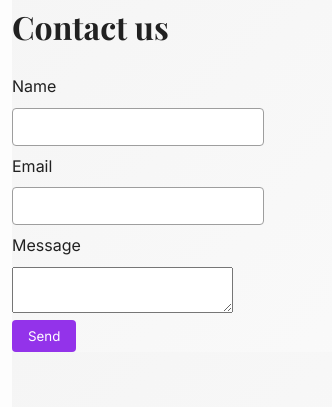
it: shows error message
Type "A" into the field labelled "Name" at (138, 127), box [12, 108, 264, 146]
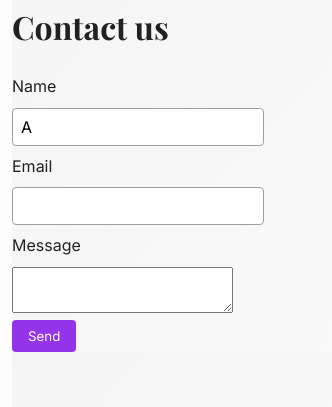
Type "a@b.c" into the field labelled "Email" at (138, 206), box [12, 187, 264, 225]
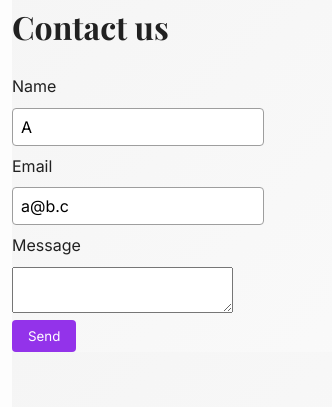
Type "Hi" into the text box labelled "Message" at (122, 290), box [12, 267, 233, 313]
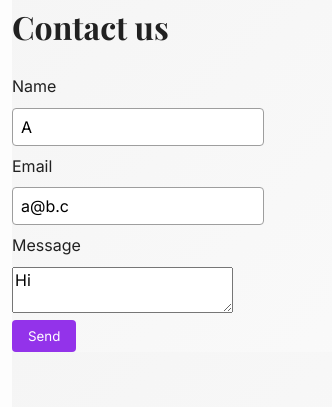
Click the button "Send" at (44, 336), box [12, 320, 76, 352]
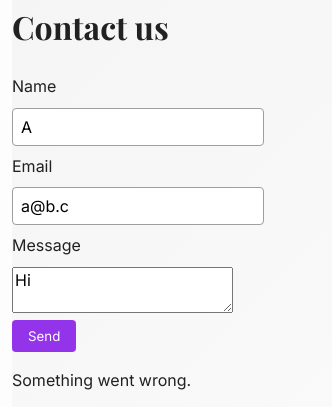
expect the text "Something went wrong." is shown: met, box [12, 370, 191, 390]
